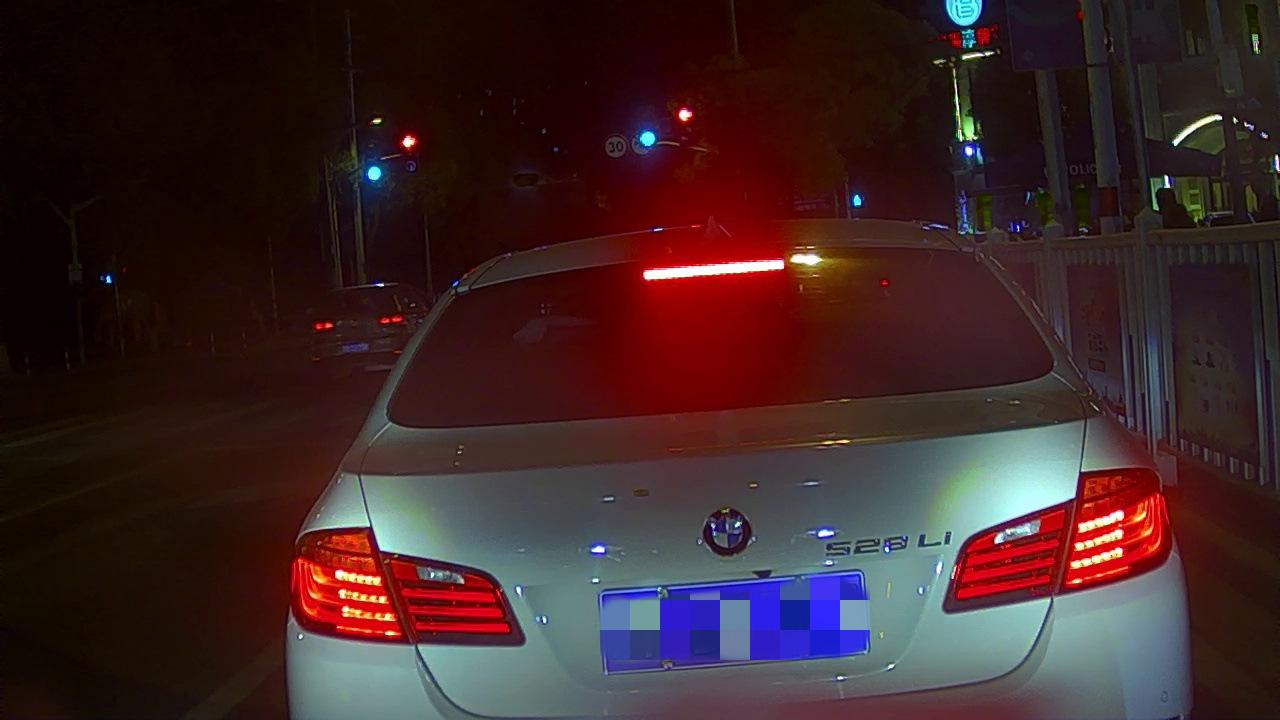traffic_light: (635, 126, 659, 150), (361, 164, 387, 186), (672, 104, 695, 126), (399, 131, 419, 151)
